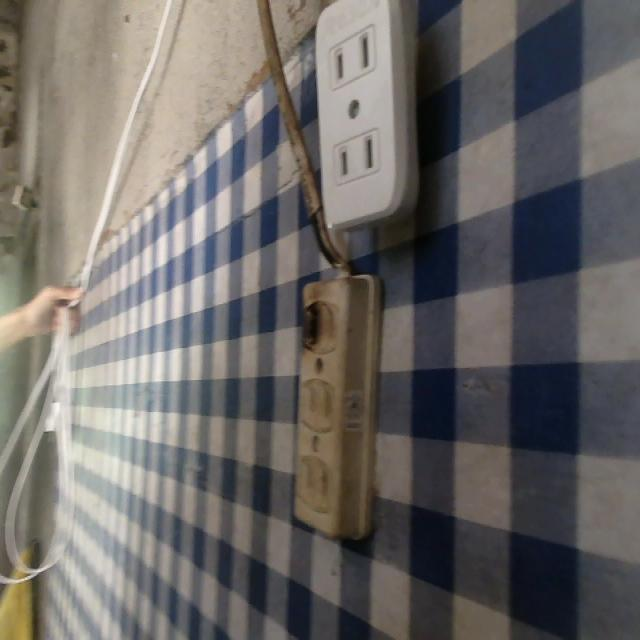-: (297, 288, 328, 360)
